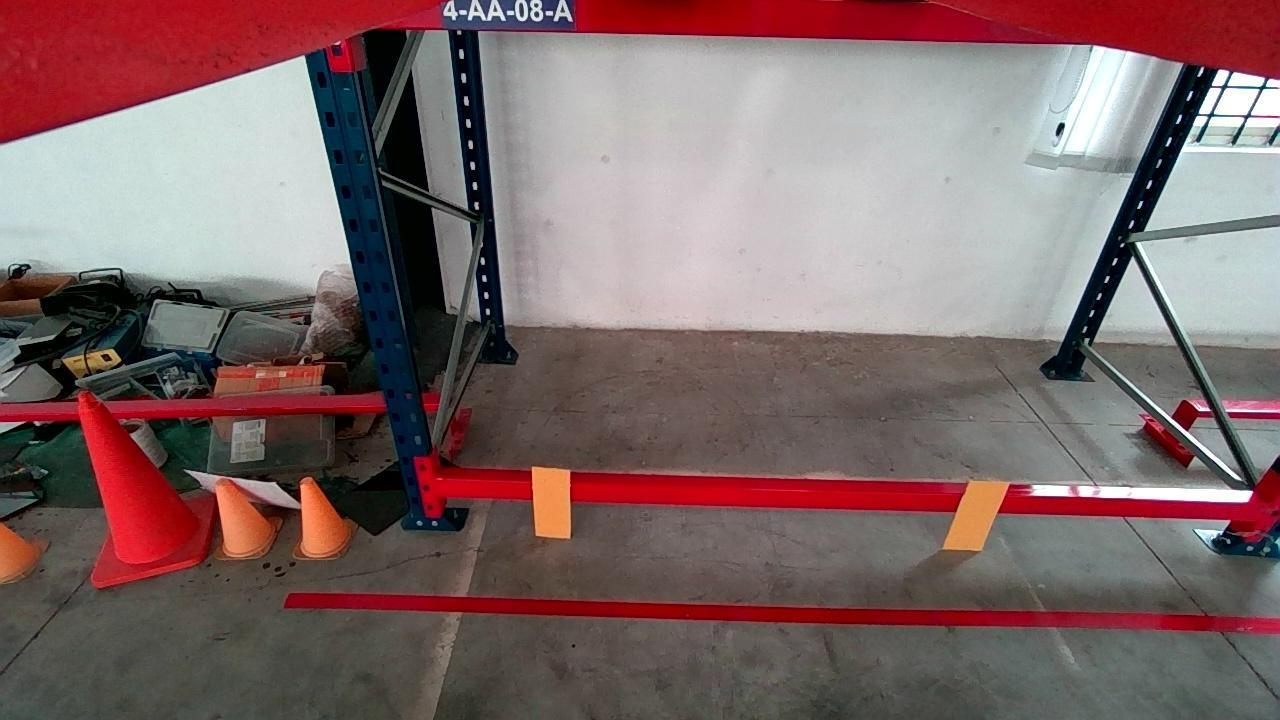h_rack: (437, 480, 1254, 521), (385, 0, 1038, 41)
orange_strip: (948, 479, 1010, 550), (533, 466, 570, 539)
red_line: (283, 590, 1280, 632)
